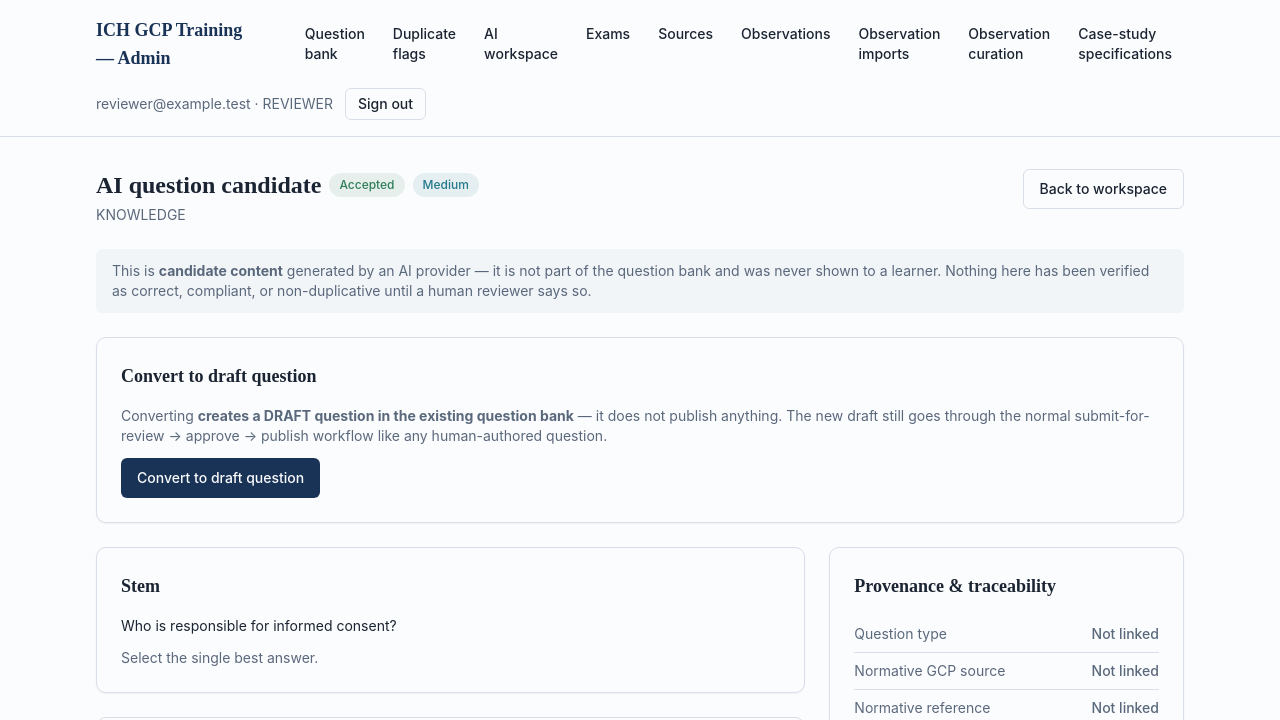
Test: AI question candidate detail page › converts an accepted candidate and links to the resulting draft question
Click the button "Convert to draft question".
click(221, 478)  # box [121,458,320,498]
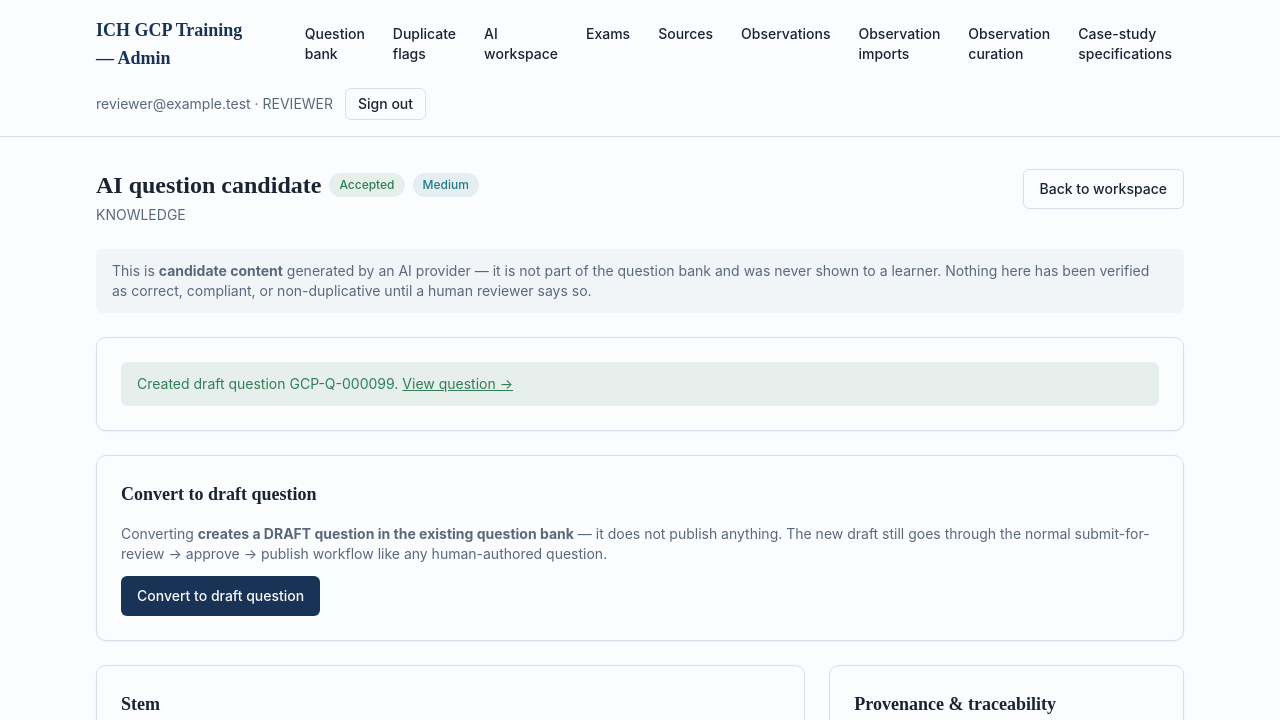
Result: the text "Created draft question GCP-Q-000099. View question →" is shown at [121,362,1159,406]
